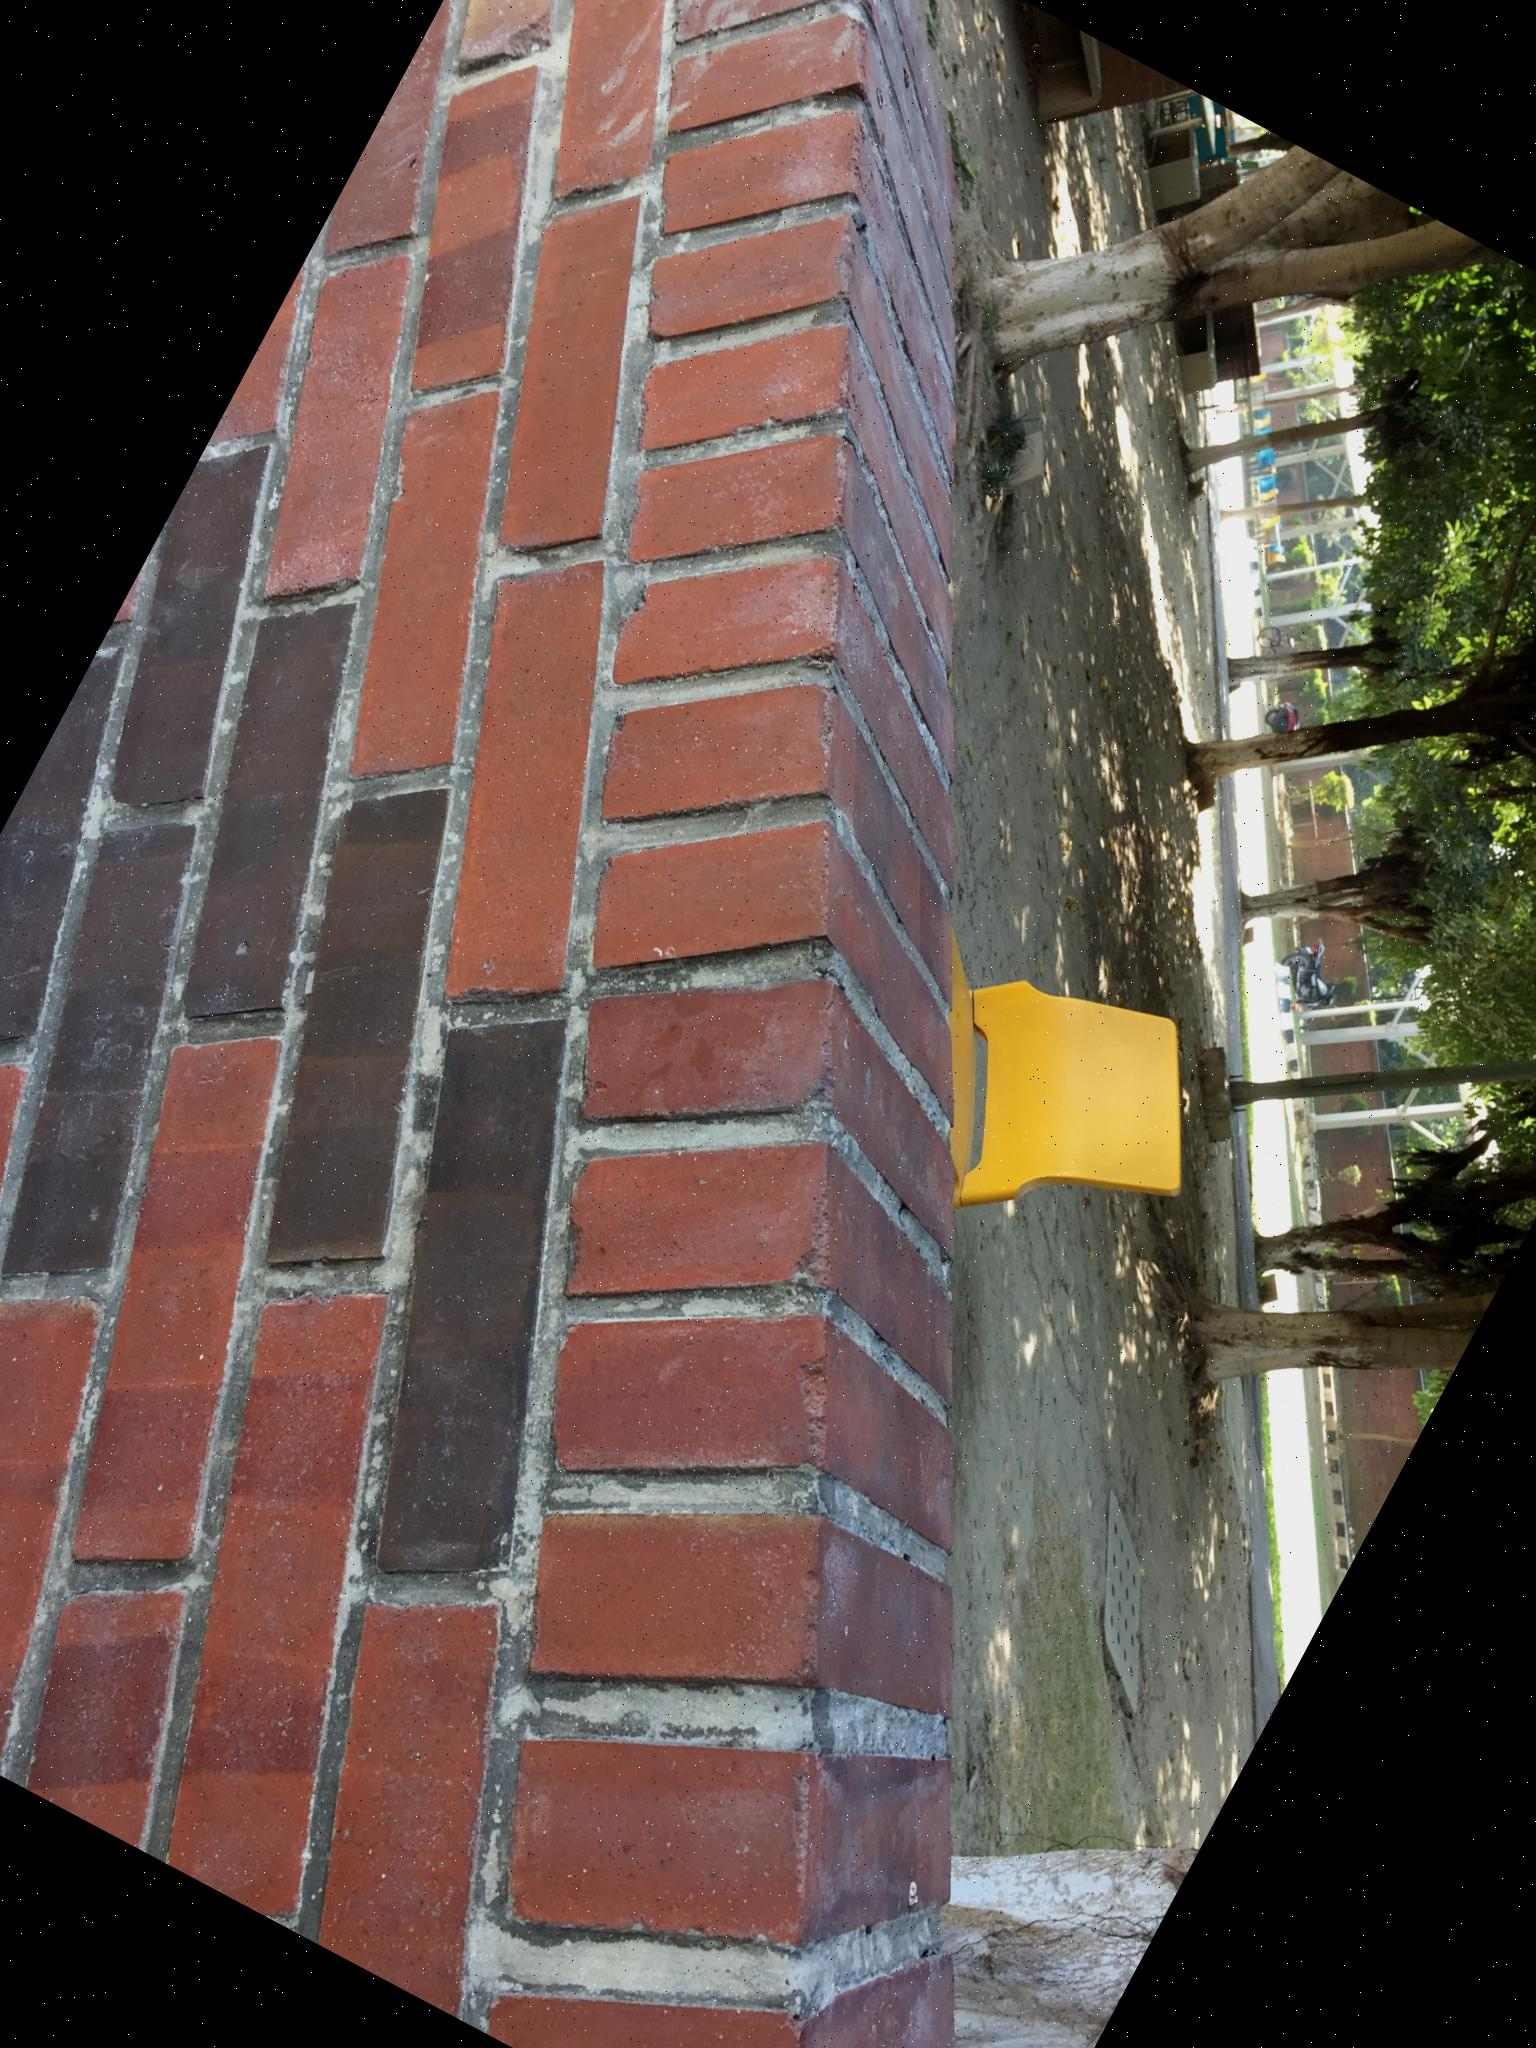chair: (834, 904, 1250, 1296)
